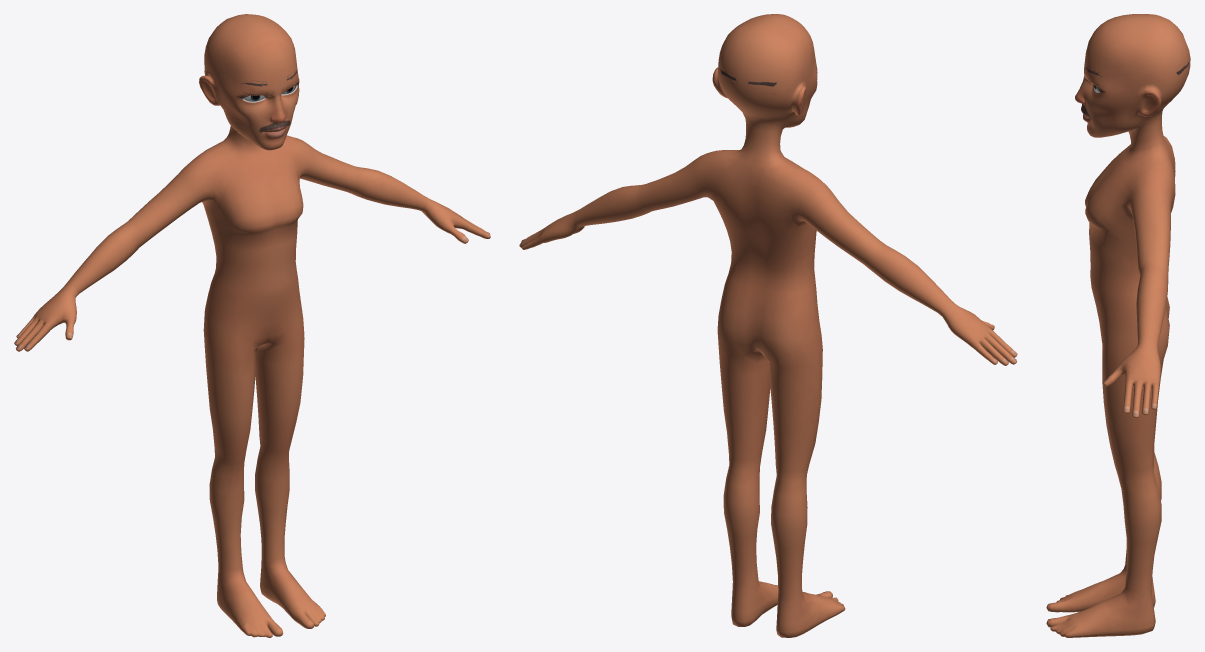
Rendered from frame_0002.glb.
3 views of the same model, side by side, from view 1: azimuth 30°, elevation 25°; view 2: azimuth 150°, elevation 25°; view 3: azimuth 270°, elevation 25° (orthographic). The views are drawn at different scales.
Parts seen in each view (by area): view 1: frame_0002_head_geo; view 2: frame_0002_head_geo; view 3: frame_0002_head_geo.
Boxes of the visible parts, x1,y1,x2,y2 form: frame_0002_head_geo: (14, 14, 490, 637); frame_0002_head_geo: (519, 14, 1017, 637); frame_0002_head_geo: (1046, 14, 1190, 637).
Bounding box in the file's own units: 1.28 × 1.5 × 0.3253.
4 materials, 2 textured.
